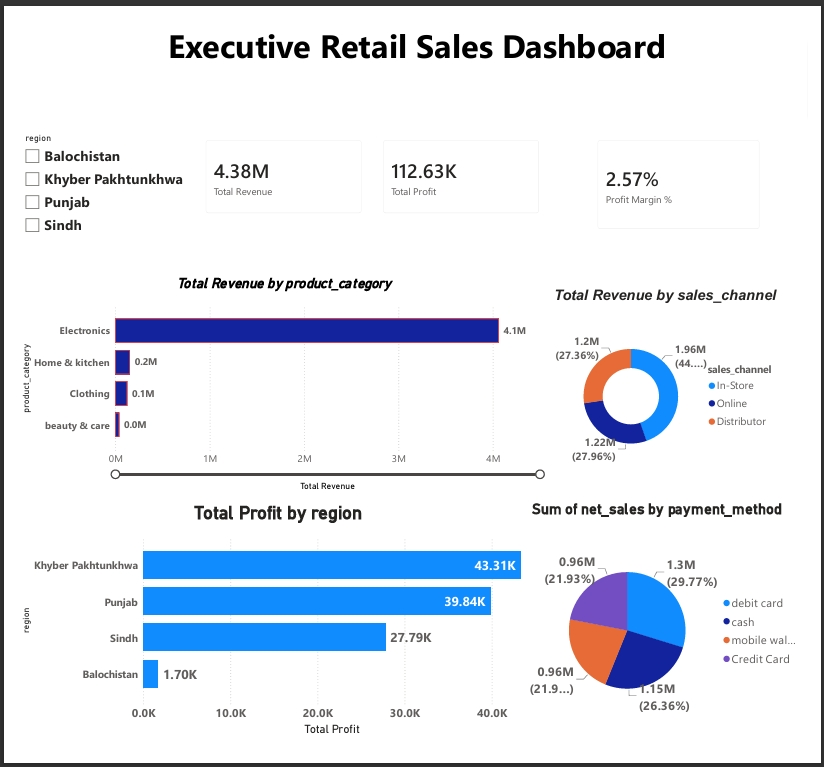

What the dashboard file says about the page in this screenshot:
{"tool":"powerbi","page":{"name":"Page 1","canvas":[1300,1200],"ordinal":0},"visuals":[{"type":"cardVisual","fields":{"Data":["public sales.Total Revenue"]},"box":[292.5,180,290.6,154.5],"z":0},{"type":"cardVisual","fields":{"Data":["public sales.Total Profit"]},"box":[585,180,290.6,154.5],"z":1000},{"type":"cardVisual","fields":{"Data":["public sales.Profit Margin %"]},"box":[937.5,180,300,180],"z":2000},{"type":"clusteredBarChart","fields":{"Category":["public sales.product_category"],"Y":["public sales.Total Revenue"]},"box":[0,420,876.9,359.5],"z":3000},{"type":"donutChart","fields":{"Category":["public sales.sales_channel"],"Y":["public sales.Total Revenue"]},"box":[877.5,437.5,379,323],"z":4000},{"type":"textbox","box":[0,0,1300,101.7],"z":5000},{"type":"slicer","fields":{"Values":["public sales.region"]},"box":[0,180,293.3,198.3],"z":6000},{"type":"clusteredBarChart","fields":{"Y":["public sales.Total Profit"],"Category":["public sales.region"]},"box":[0,791.7,858.3,390],"z":7000},{"type":"pieChart","fields":{"Category":["public sales.payment_method"],"Y":["Sum(public sales.net_sales)"]},"box":[842,790,458,390],"z":8000}]}

Visuals, with their boxes in screenshot pixels (x1, y1, x2, y2), scaled from the page's 1300x1200 canvas onto the 824x767 screenshot:
cardVisual - public sales.Total Revenue: crop(185, 115, 370, 214)
cardVisual - public sales.Total Profit: crop(371, 115, 555, 214)
cardVisual - public sales.Profit Margin %: crop(594, 115, 784, 230)
clusteredBarChart - public sales.product_category x public sales.Total Revenue: crop(0, 268, 556, 498)
donutChart - public sales.sales_channel x public sales.Total Revenue: crop(556, 280, 796, 486)
textbox: crop(0, 0, 823, 65)
slicer - public sales.region: crop(0, 115, 186, 242)
clusteredBarChart - public sales.Total Profit x public sales.region: crop(0, 506, 544, 755)
pieChart - public sales.payment_method x Sum(public sales.net_sales): crop(534, 505, 823, 754)
